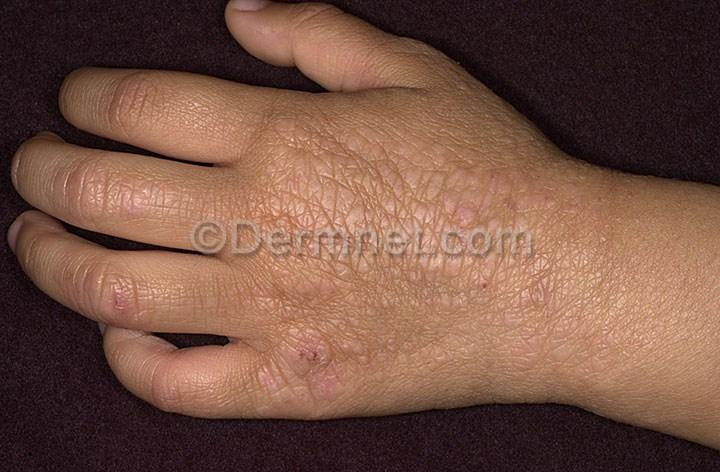excoriacion 1: (246, 316, 348, 390)
exudacion 1: (296, 342, 328, 367)
liquenificacion 1: (260, 112, 547, 345)
